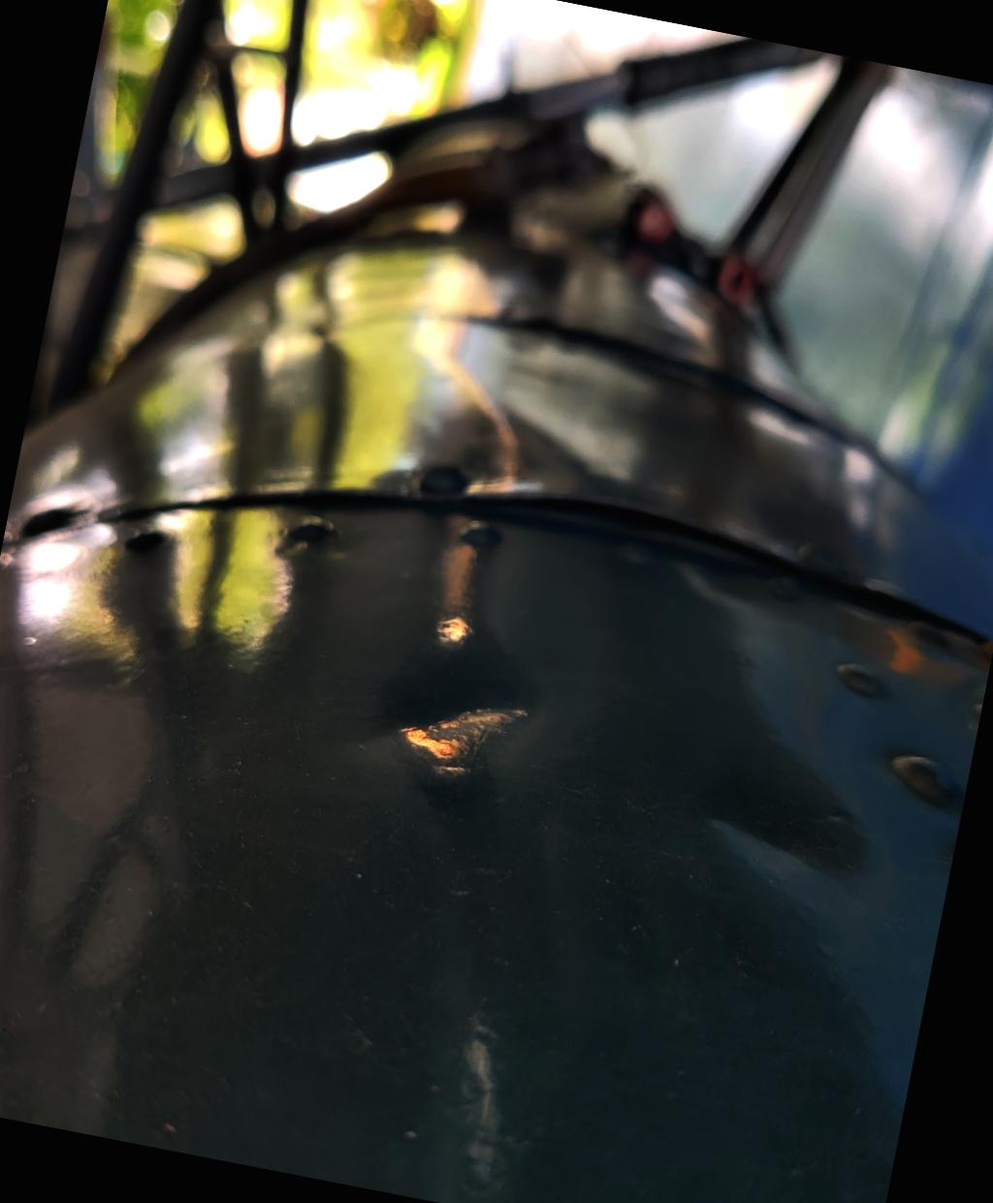dent: (609, 49, 834, 352), (473, 473, 706, 756)
